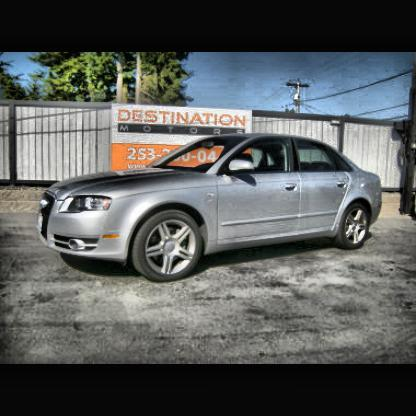Audi S4 Sedan 2007: (40, 136, 385, 285)
